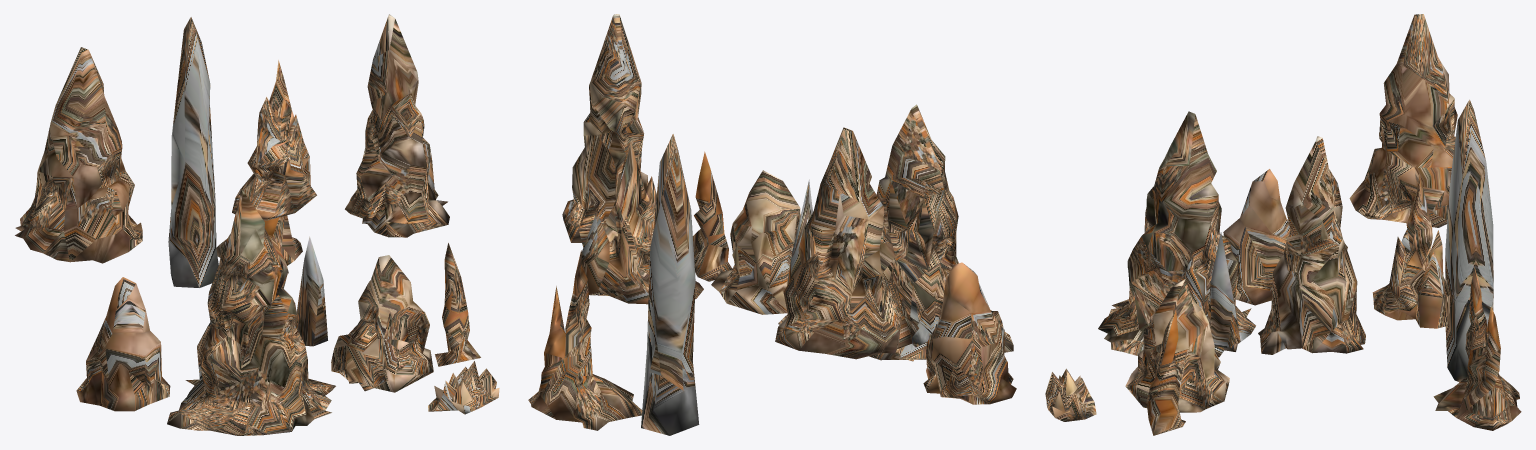
File: Cave_Structures_1.glb
3 views of the same model, side by side, from view 1: azimuth 30°, elevation 25°; view 2: azimuth 150°, elevation 25°; view 3: azimuth 270°, elevation 25° (orthographic). The views are drawn at different scales.
Visible parts, largest first — view 1: Cave_Structures_1; view 2: Cave_Structures_1; view 3: Cave_Structures_1.
Part boxes in pixels (bbox=[...]): Cave_Structures_1: bbox=[15, 14, 499, 435]; Cave_Structures_1: bbox=[528, 14, 1016, 435]; Cave_Structures_1: bbox=[1045, 14, 1521, 435].
Size of the model in its own units: 1.79 by 1.3 by 1.89.
1 material, 1 textured.
